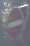No entry: (6, 6, 24, 41)
